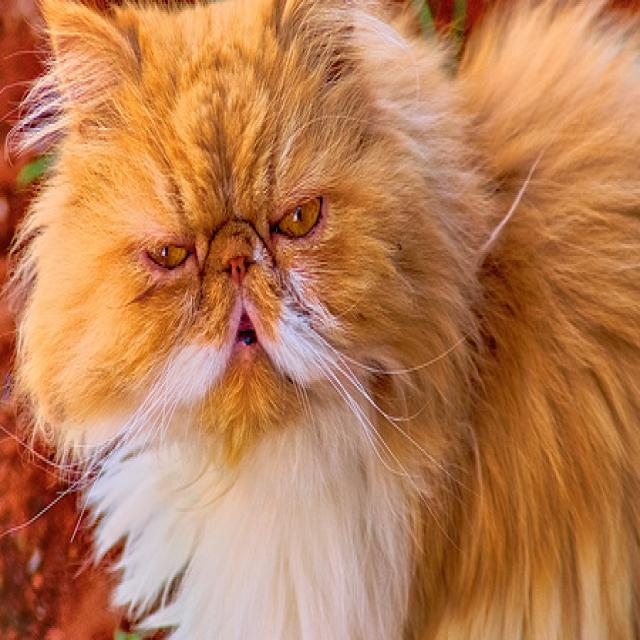Persian: (10, 0, 640, 640)
